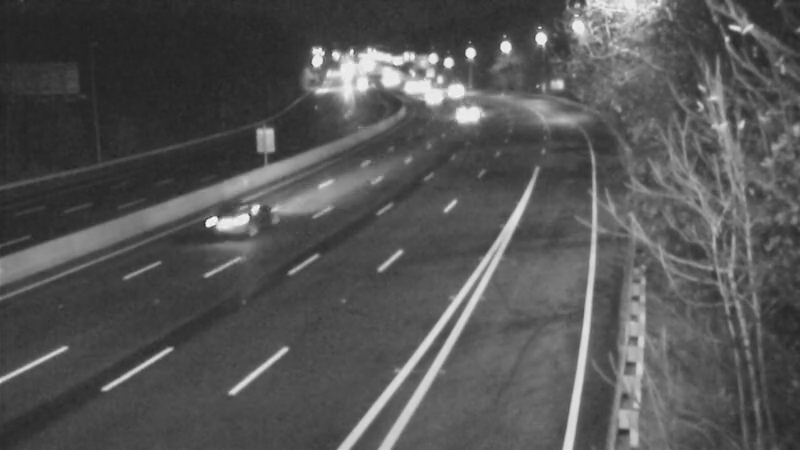vehicle: (189, 179, 269, 259), (433, 66, 483, 116), (402, 73, 452, 123), (445, 88, 495, 138)
